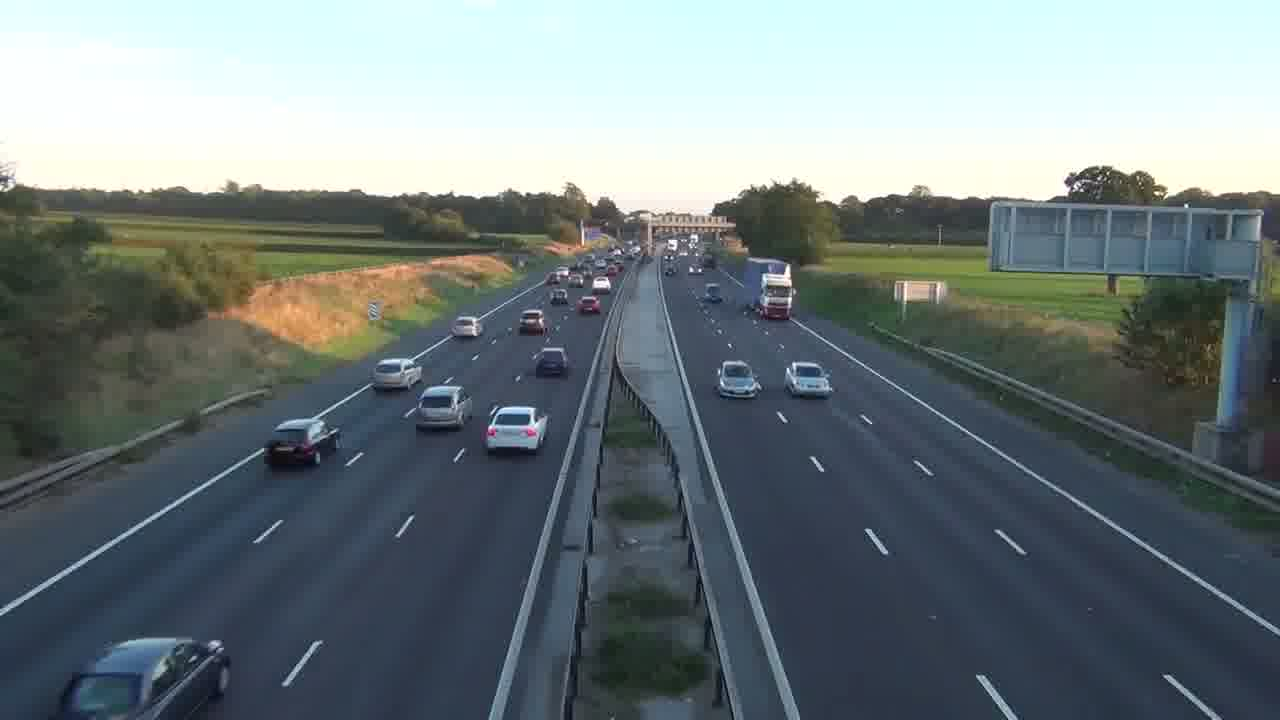car: (53, 635, 232, 718), (483, 405, 550, 454), (414, 383, 473, 431), (784, 360, 833, 398), (716, 359, 762, 399), (371, 356, 423, 391), (532, 346, 569, 378), (450, 314, 483, 339)
truck: (263, 415, 341, 468)
